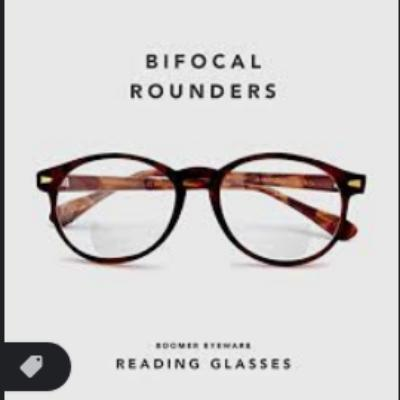glasses: (32, 147, 374, 275)
